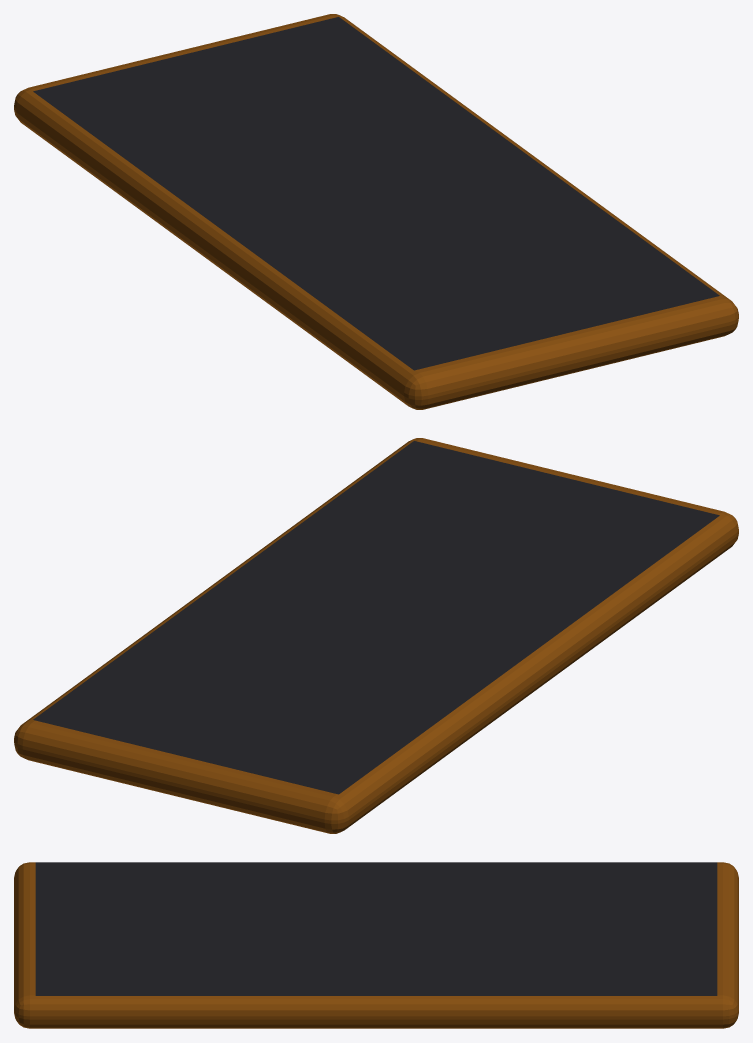
Rendered from xiaomi-redmi-note-model-82-budget-2024.glb.
3 renders of one model, top to bottom at view 1: azimuth 30°, elevation 25°; view 2: azimuth 150°, elevation 25°; view 3: azimuth 270°, elevation 25°, orthographic. The views are drawn at different scales.
Parts seen in each view (by area): view 1: Phone_Screen, Phone_Body; view 2: Phone_Screen, Phone_Body; view 3: Phone_Screen, Phone_Body.
Part boxes in pixels (bbox=[...]): Phone_Screen: bbox=[33, 17, 719, 370]; Phone_Body: bbox=[14, 14, 738, 409]; Phone_Screen: bbox=[33, 441, 719, 794]; Phone_Body: bbox=[14, 438, 738, 833]; Phone_Screen: bbox=[35, 862, 717, 995]; Phone_Body: bbox=[14, 862, 738, 1028].
Bounding box in the file's own units: 0.0722 × 0.0075 × 0.1525.
